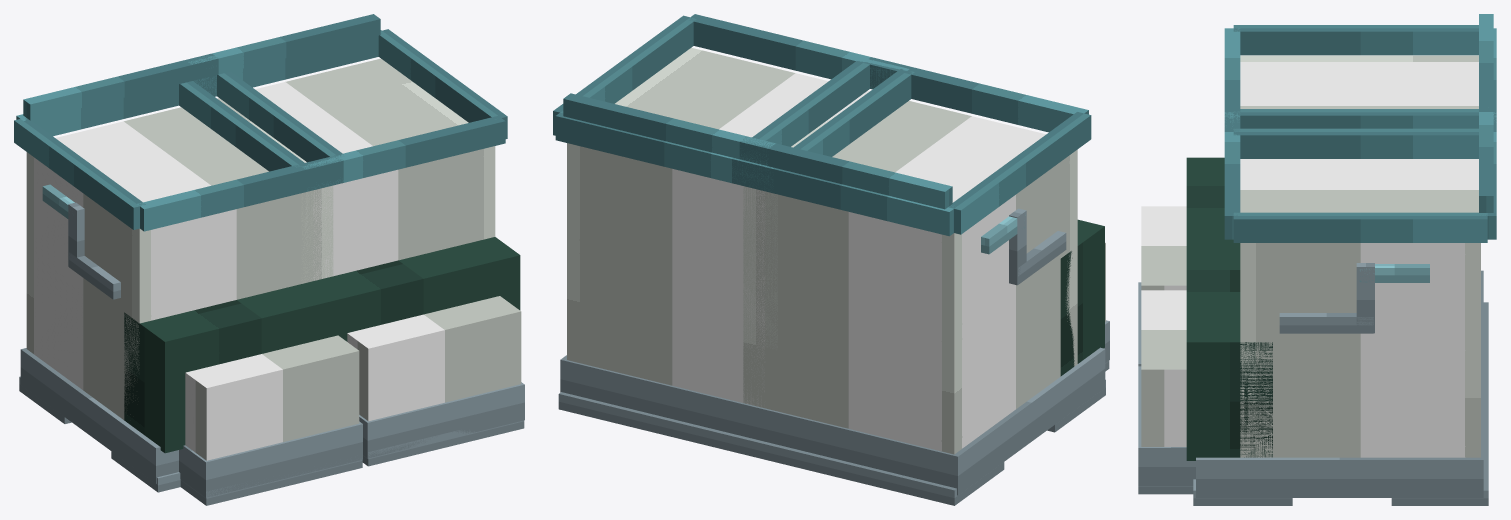
Rendered from zhuji_baiqing_lingyun_boots.obj.
3 renders of one model, left to right at view 1: azimuth 30°, elevation 25°; view 2: azimuth 150°, elevation 25°; view 3: azimuth 270°, elevation 25°, orthographic. The views are drawn at different scales.
Visible parts, largest first — view 1: boot_shaft_-1, boot_shaft_1, boot_instep_-1, boot_toe_cap_-1, boot_toe_cap_1, boot_instep_1, boot_toe_welt_-1, boot_welt_-1, boot_cuff_front_-1, boot_toe_welt_1, boot_cuff_front_1, boot_cuff_raise_-1 (+13 smaller); view 2: boot_shaft_-1, boot_shaft_1, boot_welt_-1, boot_welt_1, boot_cuff_back_-1, boot_cuff_front_-1, boot_cuff_front_1, boot_cuff_raise_-1, boot_cuff_side_-1_-1, boot_instep_-1, boot_cuff_back_1, boot_cuff_raise_1 (+8 smaller); view 3: boot_shaft_1, boot_instep_1, boot_shaft_-1, boot_welt_1, boot_cuff_side_1_1, boot_cuff_side_1_-1, boot_cuff_side_-1_-1, boot_toe_cap_1, boot_cuff_side_-1_1, boot_toe_cap_-1, boot_instep_-1, boot_toe_welt_1 (+13 smaller).
Boxes of the visible parts, x1=… form: boot_shaft_-1: x1=26, y1=98, x2=333, y2=419; boot_shaft_1: x1=255, y1=58, x2=495, y2=283; boot_instep_-1: x1=124, y1=276, x2=358, y2=453; boot_toe_cap_-1: x1=185, y1=335, x2=359, y2=460; boot_toe_cap_1: x1=347, y1=296, x2=521, y2=421; boot_instep_1: x1=319, y1=237, x2=520, y2=341; boot_toe_welt_-1: x1=179, y1=421, x2=362, y2=497; boot_welt_-1: x1=20, y1=348, x2=178, y2=483; boot_cuff_front_-1: x1=137, y1=155, x2=343, y2=231; boot_toe_welt_1: x1=359, y1=382, x2=524, y2=458; boot_cuff_front_1: x1=302, y1=116, x2=505, y2=190; boot_cuff_raise_-1: x1=23, y1=53, x2=218, y2=120; boot_shaft_-1: x1=743, y1=101, x2=1077, y2=454; boot_shaft_1: x1=567, y1=47, x2=869, y2=409; boot_welt_-1: x1=736, y1=347, x2=1105, y2=495; boot_welt_1: x1=560, y1=355, x2=780, y2=440; boot_cuff_back_-1: x1=732, y1=158, x2=953, y2=236; boot_cuff_front_-1: x1=863, y1=57, x2=1088, y2=132; boot_cuff_front_1: x1=689, y1=14, x2=909, y2=88; boot_cuff_raise_-1: x1=739, y1=136, x2=952, y2=209; boot_cuff_side_-1_-1: x1=948, y1=112, x2=1091, y2=234; boot_instep_-1: x1=1060, y1=219, x2=1104, y2=376; boot_cuff_back_1: x1=555, y1=110, x2=773, y2=191; boot_cuff_raise_1: x1=563, y1=93, x2=775, y2=165; boot_shaft_1: x1=1240, y1=159, x2=1480, y2=457; boot_instep_1: x1=1186, y1=241, x2=1272, y2=460; boot_shaft_-1: x1=1240, y1=55, x2=1478, y2=108; boot_welt_1: x1=1196, y1=354, x2=1483, y2=497; boot_cuff_side_1_1: x1=1233, y1=212, x2=1487, y2=242; boot_cuff_side_1_-1: x1=1233, y1=128, x2=1478, y2=158; boot_cuff_side_-1_-1: x1=1233, y1=25, x2=1478, y2=55; boot_toe_cap_1: x1=1141, y1=290, x2=1186, y2=446; boot_cuff_side_-1_1: x1=1233, y1=109, x2=1478, y2=128; boot_toe_cap_-1: x1=1141, y1=206, x2=1186, y2=290; boot_instep_-1: x1=1186, y1=157, x2=1240, y2=258; boot_toe_welt_1: x1=1138, y1=366, x2=1195, y2=485.
Size of the model in its own units: 0.5494 by 0.4044 by 0.4281.
